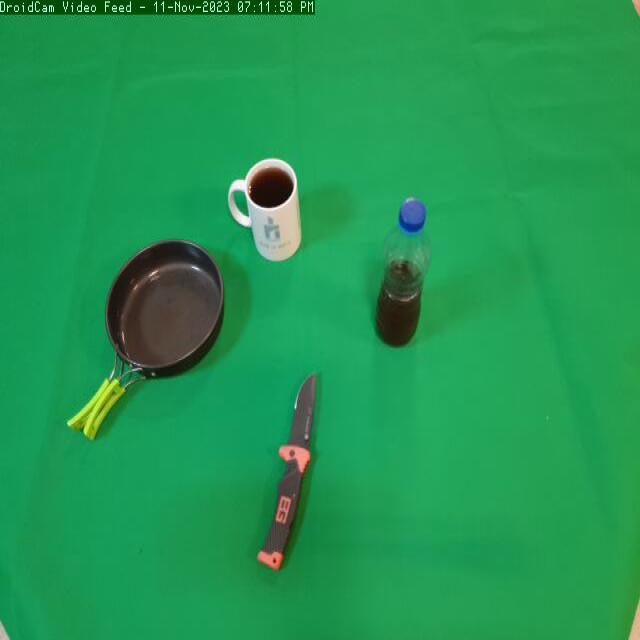fullbottle: (368, 193, 434, 361)
fullcup: (229, 152, 307, 267)
knife: (258, 366, 337, 593)
pan: (60, 232, 232, 449)
